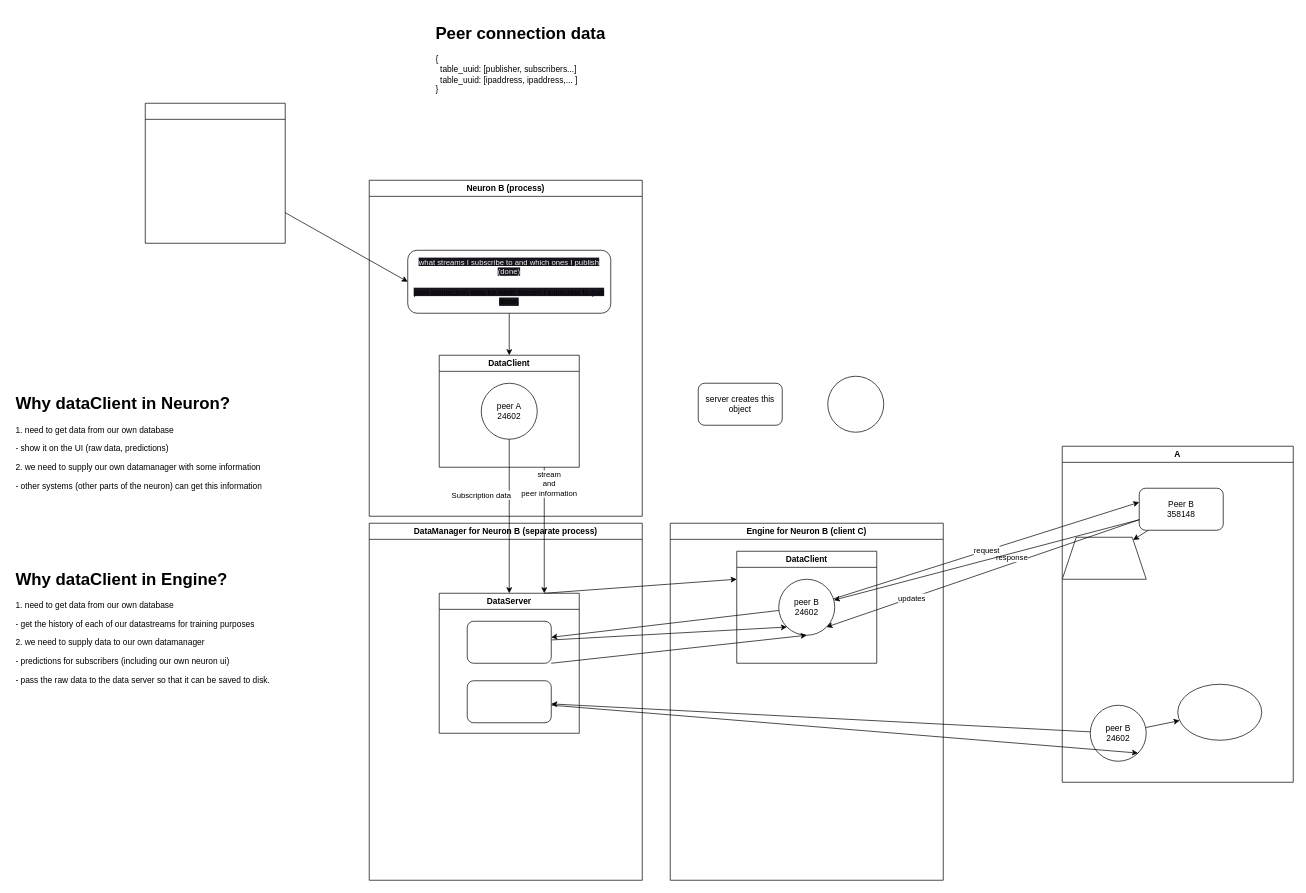
Some shapes in this 1306 by 893 pixel diagram are drawn without their labels. Here are the shapes that lost their labels. From the top down, the centre of each, then its label:
the point at 215,173: Satori Servers
the point at 855,404: client creates this object
the point at 1104,558: Requests
the point at 509,642: client C 54386
the point at 509,701: Peer A 54385
the point at 1219,712: responses subscriptions
